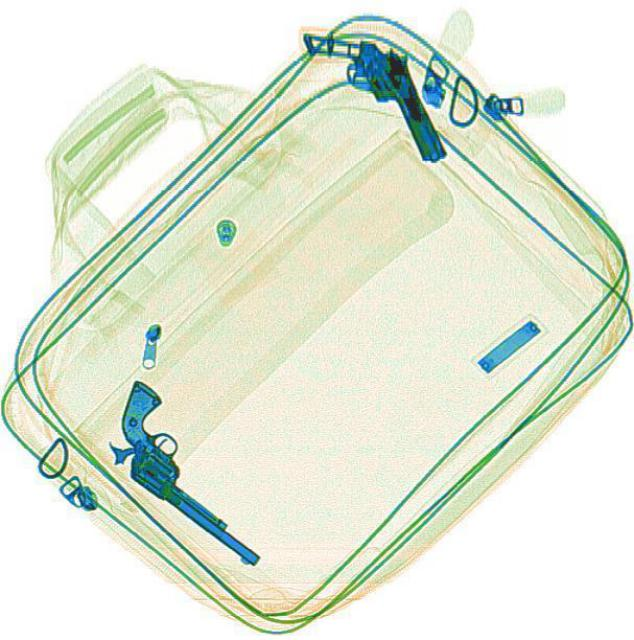Gun: (79, 378, 306, 568), (296, 2, 444, 186)
